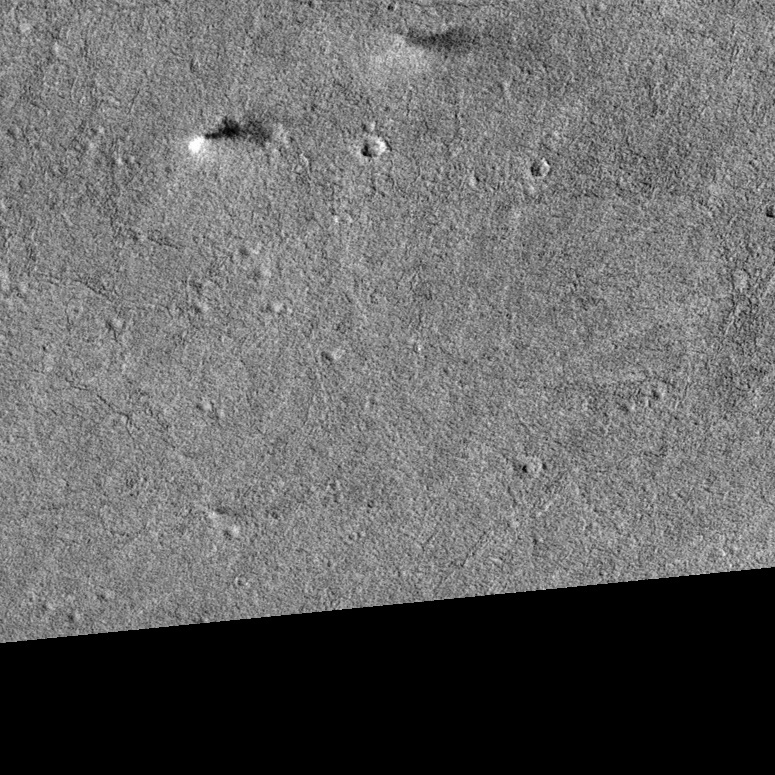dust_devil: (374, 25, 478, 65), (186, 115, 274, 156)
